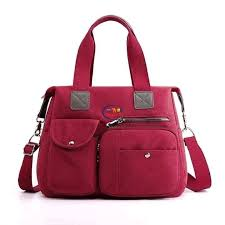bag: (21, 17, 219, 209)
